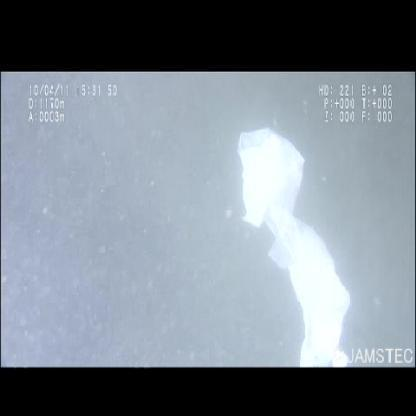Rác: (237, 126, 351, 370)
